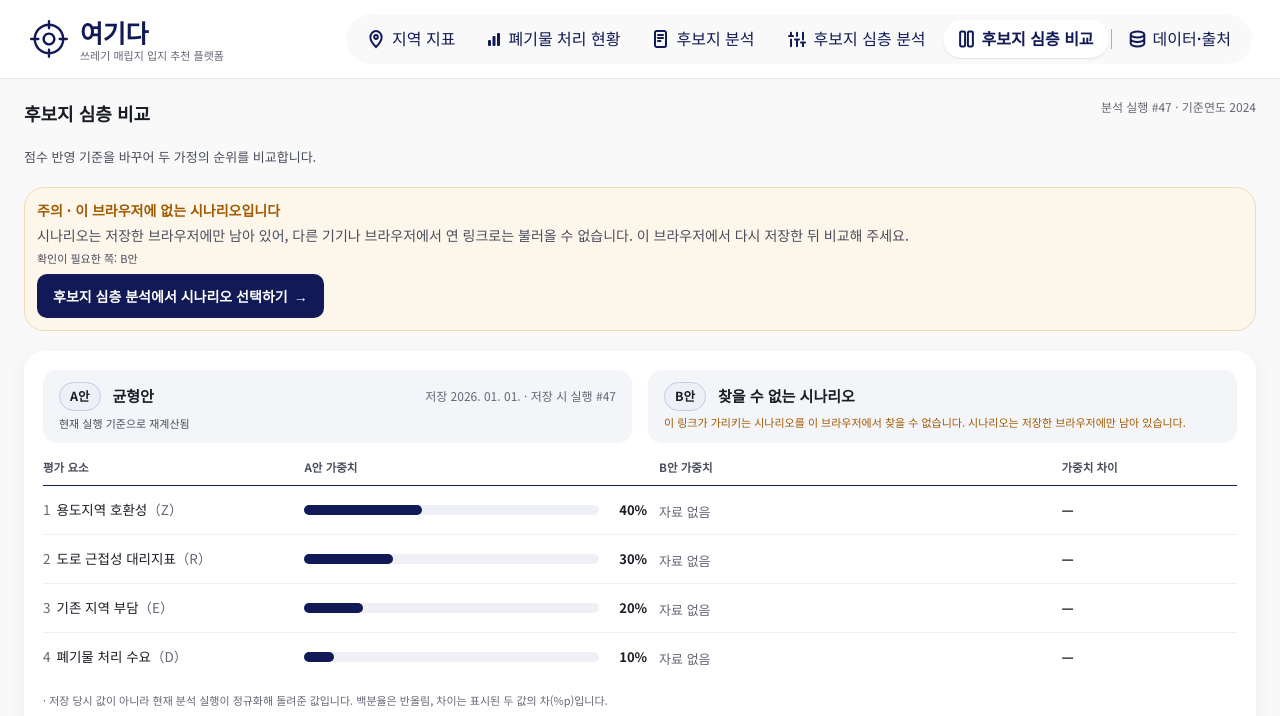
Test: persistence and recovery › offers a way back to 후보지 심층 분석 without creating or editing a scenario
Expected: the text with test id "scenario-comparison-run-meta" shows "#47", [1101,98,1256,115]
// B is missing, so the foundation offers the way back once A has settled.
Click the button with test id "scenario-comparison-back".
click(180, 296)  # box [37,274,324,318]
(page scrolled)
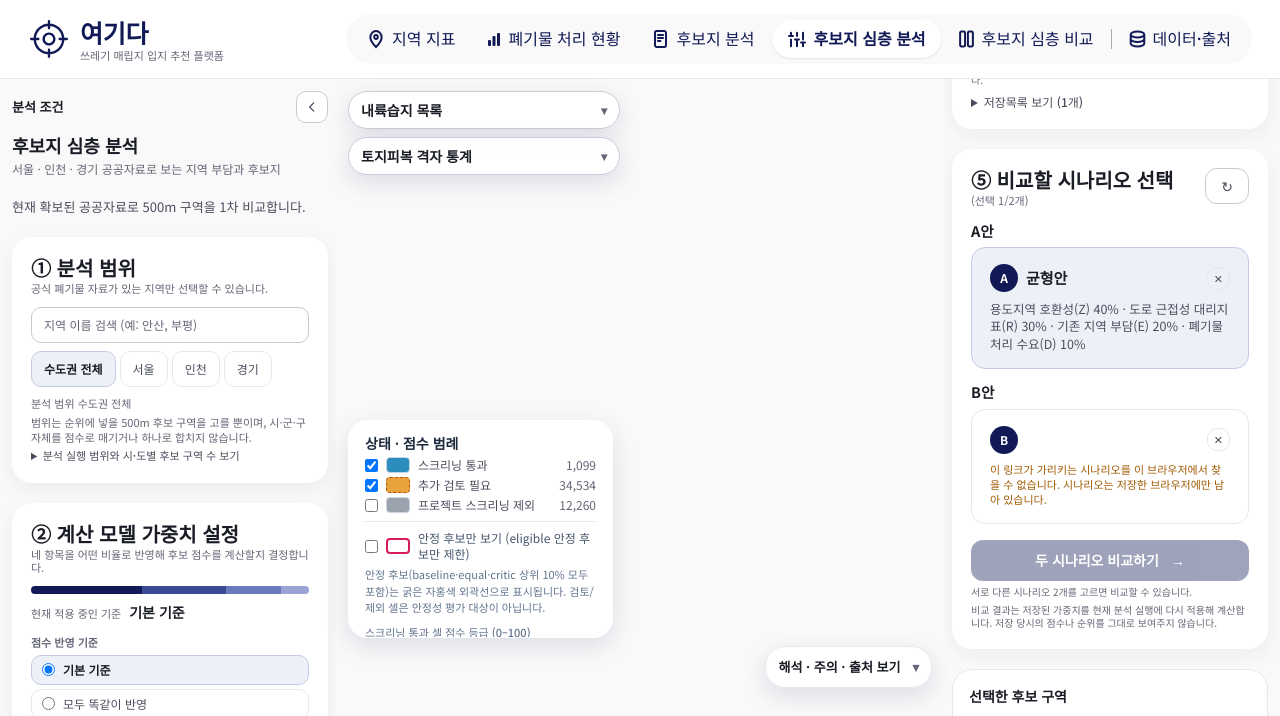
Now the element with test id "scenario-compare-picker" is shown, box [952,149,1268,649]
